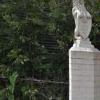Statue: (55, 1, 98, 53)
